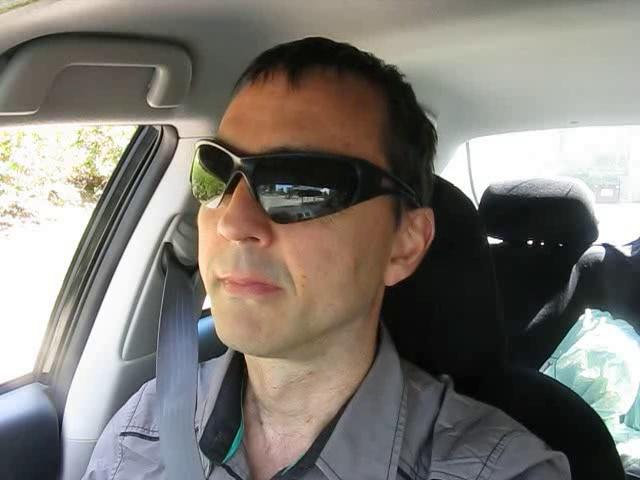no_yawn: (199, 261, 300, 308)
